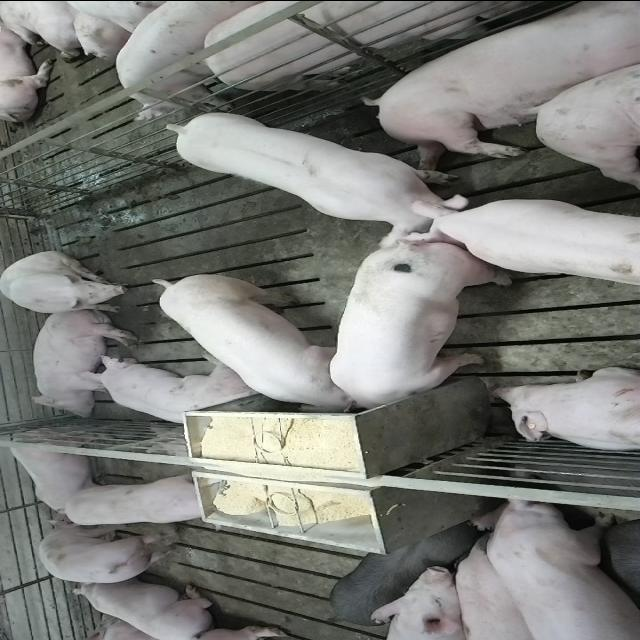Feeding: (330, 245, 514, 419), (142, 268, 358, 411)
Lateral_lying: (364, 2, 640, 168), (28, 307, 140, 417)
Sitting: (56, 467, 234, 523), (2, 250, 136, 314)
Standing: (155, 110, 468, 247), (195, 0, 640, 92), (478, 496, 640, 638), (430, 194, 640, 288), (328, 519, 486, 629), (108, 0, 255, 116), (36, 519, 172, 585)
Sternal_lying: (490, 366, 640, 454), (81, 359, 259, 429), (68, 579, 216, 638)
